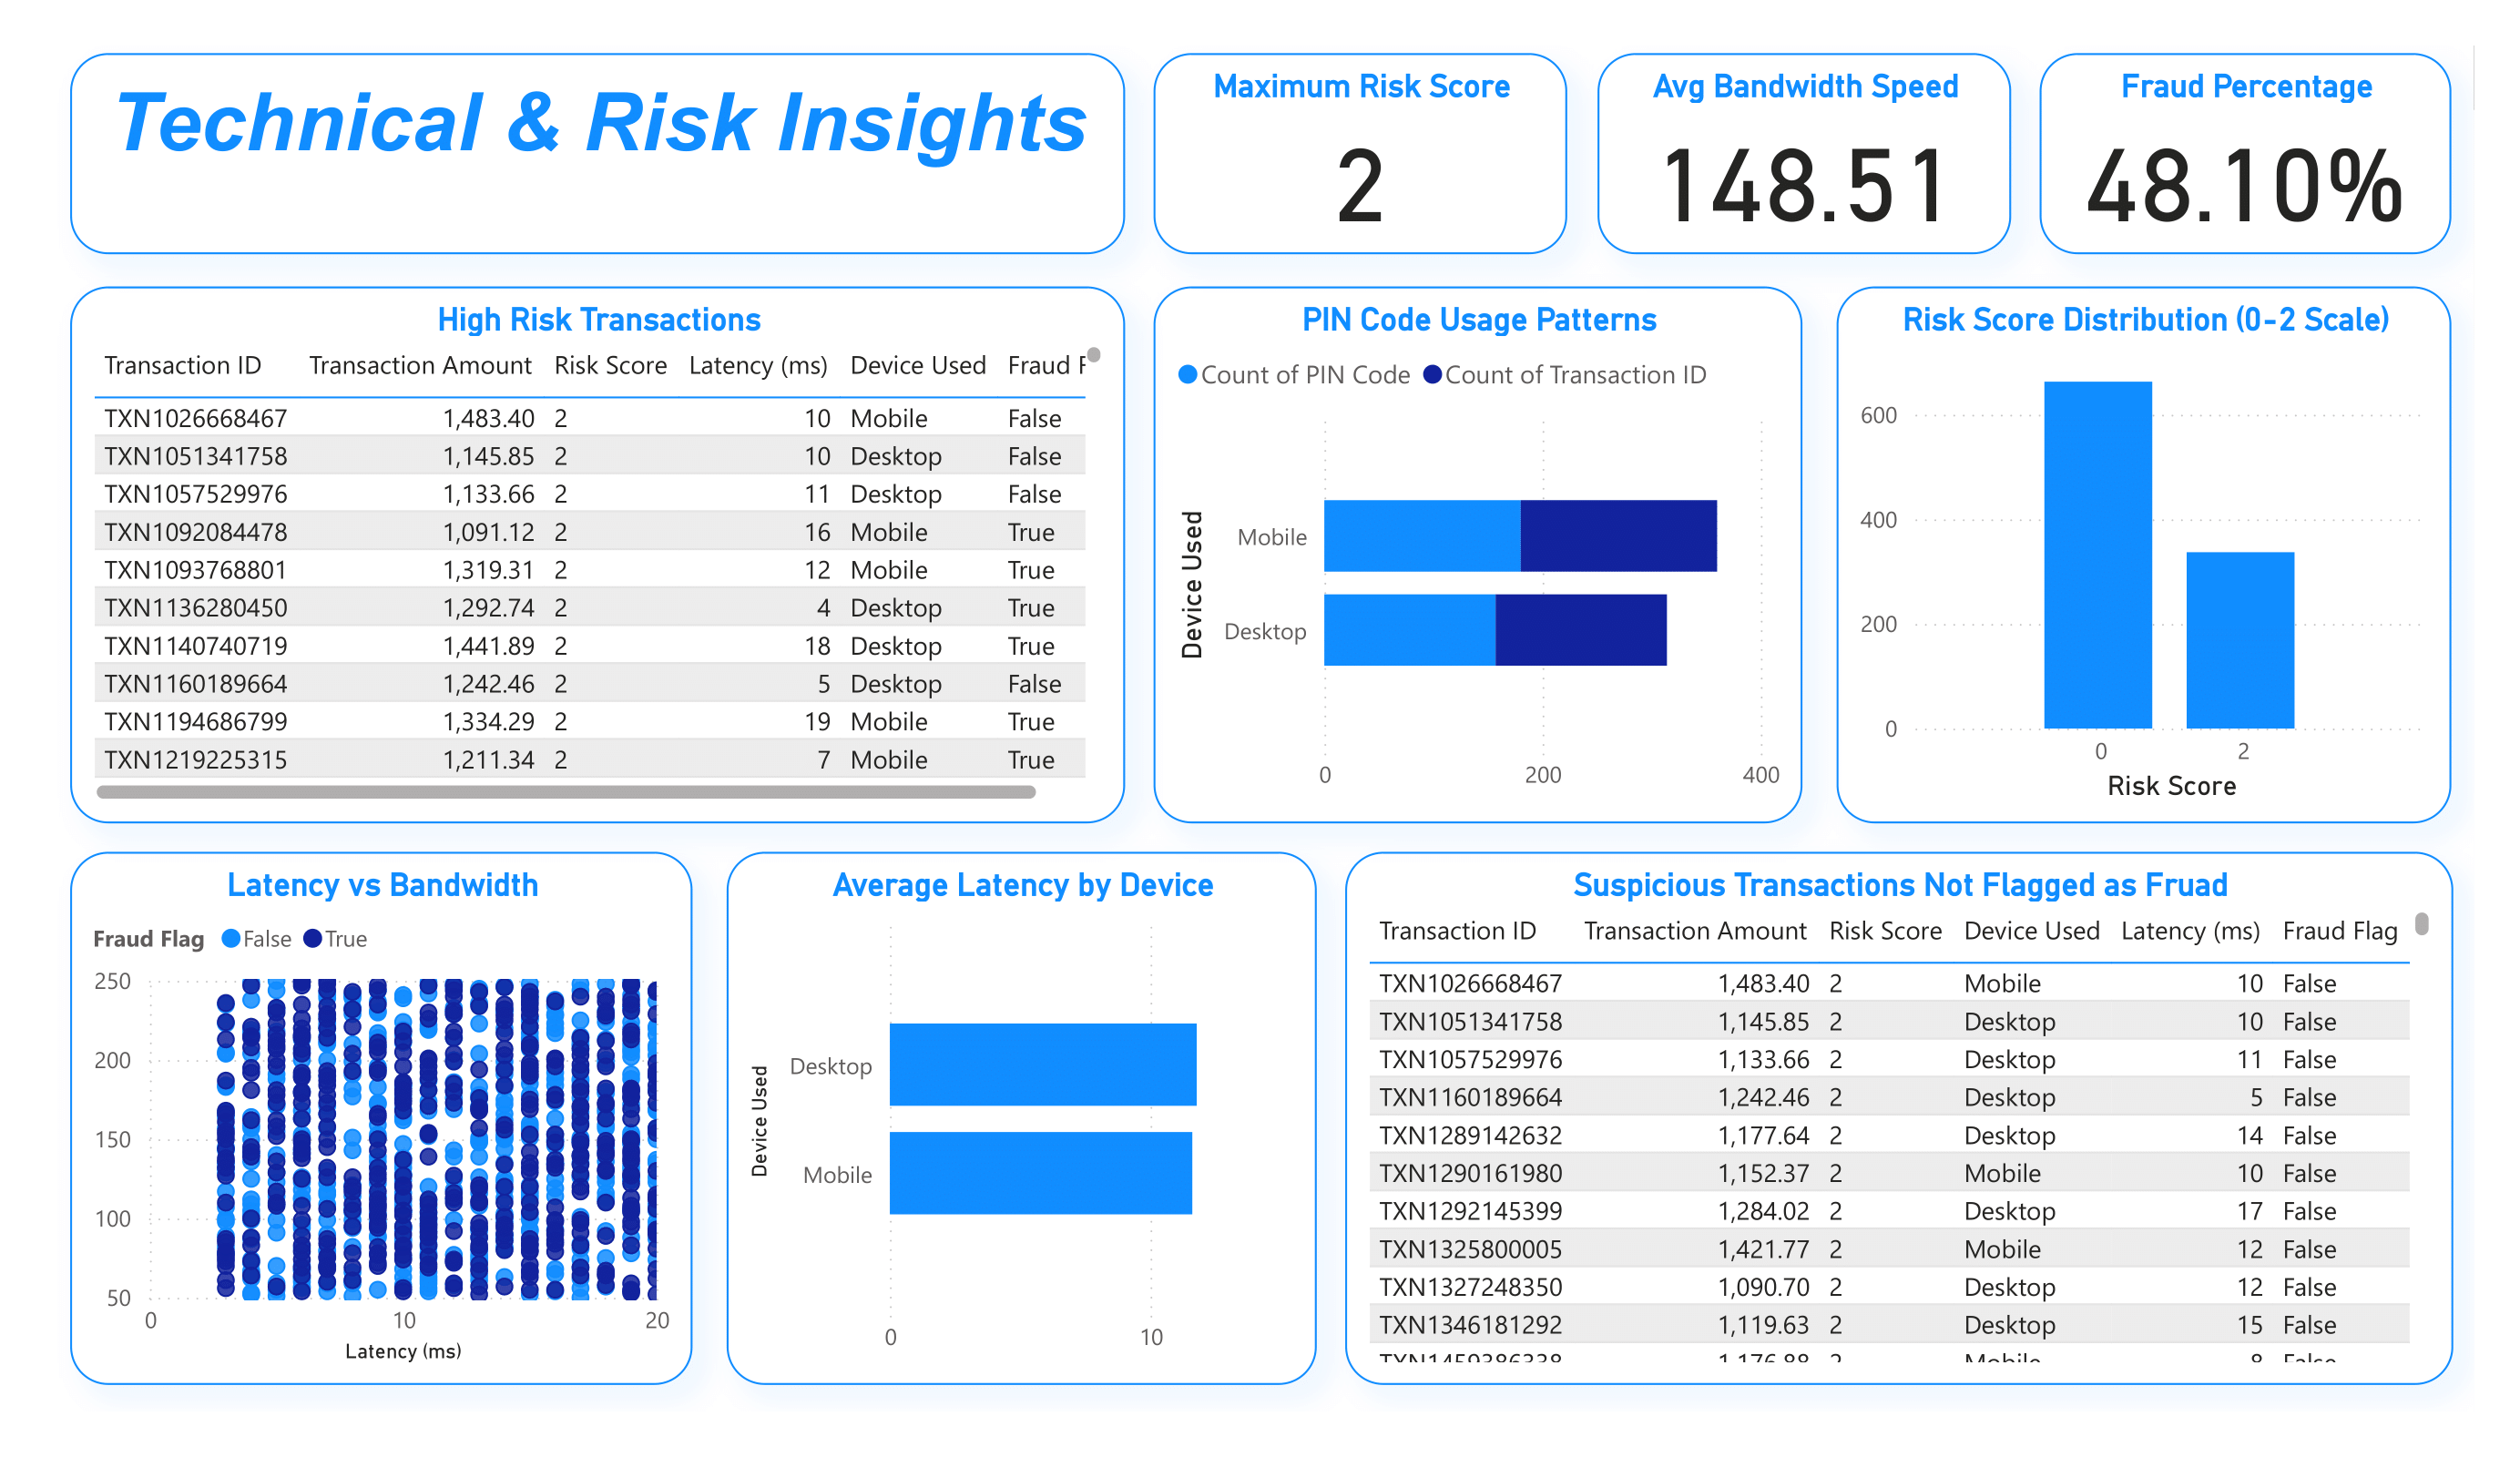

This screenshot's page, from the dashboard's own definition file:
{"tool":"powerbi","page":{"name":"Technical & Risk Insights","canvas":[1280,720],"ordinal":2},"visuals":[{"type":"columnChart","title":"Risk Score Distribution (0-2 Scale)","fields":{"Category":["SecureTransaction_data.Risk Score"],"Y":["CountNonNull(SecureTransaction_data.Transaction ID)"]},"box":[943.8,127,324.7,282.8],"z":0},{"type":"barChart","title":"Average Latency by Device","fields":{"Category":["SecureTransaction_data.Device Used"],"Y":["SecureTransaction_data.Avg_Latency"]},"box":[358.6,424.8,311,280.8],"z":1000},{"type":"tableEx","title":"Suspicious Transactions Not Flagged as Fruad","fields":{"Values":["SecureTransaction_data.Transaction ID","SecureTransaction_data.Transaction Amount","SecureTransaction_data.Risk Score","SecureTransaction_data.Device Used","SecureTransaction_data.Latency (ms)","SecureTransaction_data.Fraud Flag"]},"box":[685.4,424.8,583.2,280.8],"z":2000},{"type":"scatterChart","title":"Latency vs Bandwidth","fields":{"Y":["SecureTransaction_data.Slice Bandwidth (Mbps)"],"X":["SecureTransaction_data.Latency (ms)"],"Series":["SecureTransaction_data.Fraud Flag"]},"box":[13,424.8,328.3,280.8],"z":3000},{"type":"barChart","title":"PIN Code Usage Patterns","fields":{"Y":["CountNonNull(SecureTransaction_data.PIN Code)","CountNonNull(SecureTransaction_data.Transaction ID)"],"Category":["SecureTransaction_data.Device Used"]},"box":[584.4,127,342,282.8],"z":4000},{"type":"tableEx","title":"High Risk Transactions","fields":{"Values":["SecureTransaction_data.Transaction ID","SecureTransaction_data.Transaction Amount","SecureTransaction_data.Risk Score","SecureTransaction_data.Latency (ms)","SecureTransaction_data.Device Used","SecureTransaction_data.Fraud Flag"]},"box":[13,127,555.6,282.8],"z":5000},{"type":"textbox","box":[13,4.3,555.6,105.3],"z":6000},{"type":"card","title":"Maximum Risk Score","fields":{"Values":["SecureTransaction_data.Suspicious Not Fraud"]},"box":[584.4,4.3,217.9,105.3],"z":7000},{"type":"card","title":"Avg Bandwidth Speed","fields":{"Values":["SecureTransaction_data.Avg Bandwidth"]},"box":[818.2,4.3,217.9,105.3],"z":8000},{"type":"card","title":"Fraud Percentage","fields":{"Values":["SecureTransaction_data.Fraud %"]},"box":[1050.6,4.3,217.9,105.3],"z":9000}]}

Visuals, with their boxes in screenshot pixels (x1, y1, x2, y2):
"Risk Score Distribution (0-2 Scale)" columnChart: <region>1836, 287, 2453, 823</region>
"Average Latency by Device" barChart: <region>726, 851, 1316, 1384</region>
"Suspicious Transactions Not Flagged as Fruad" tableEx: <region>1346, 851, 2453, 1384</region>
"Latency vs Bandwidth" scatterChart: <region>70, 851, 693, 1384</region>
"PIN Code Usage Patterns" barChart: <region>1155, 287, 1803, 823</region>
"High Risk Transactions" tableEx: <region>70, 287, 1125, 823</region>
textbox: <region>70, 54, 1125, 253</region>
"Maximum Risk Score" card: <region>1155, 54, 1568, 253</region>
"Avg Bandwidth Speed" card: <region>1598, 54, 2012, 253</region>
"Fraud Percentage" card: <region>2039, 54, 2453, 253</region>
